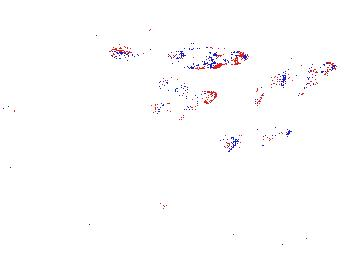X-ray fish: (39, 94, 82, 134), (132, 13, 161, 56)
red belly glassfish: (153, 71, 191, 92), (109, 45, 147, 64)
redtail glassfish: (276, 55, 338, 95), (149, 90, 218, 125), (222, 124, 293, 156), (254, 65, 305, 109), (169, 44, 255, 70)
